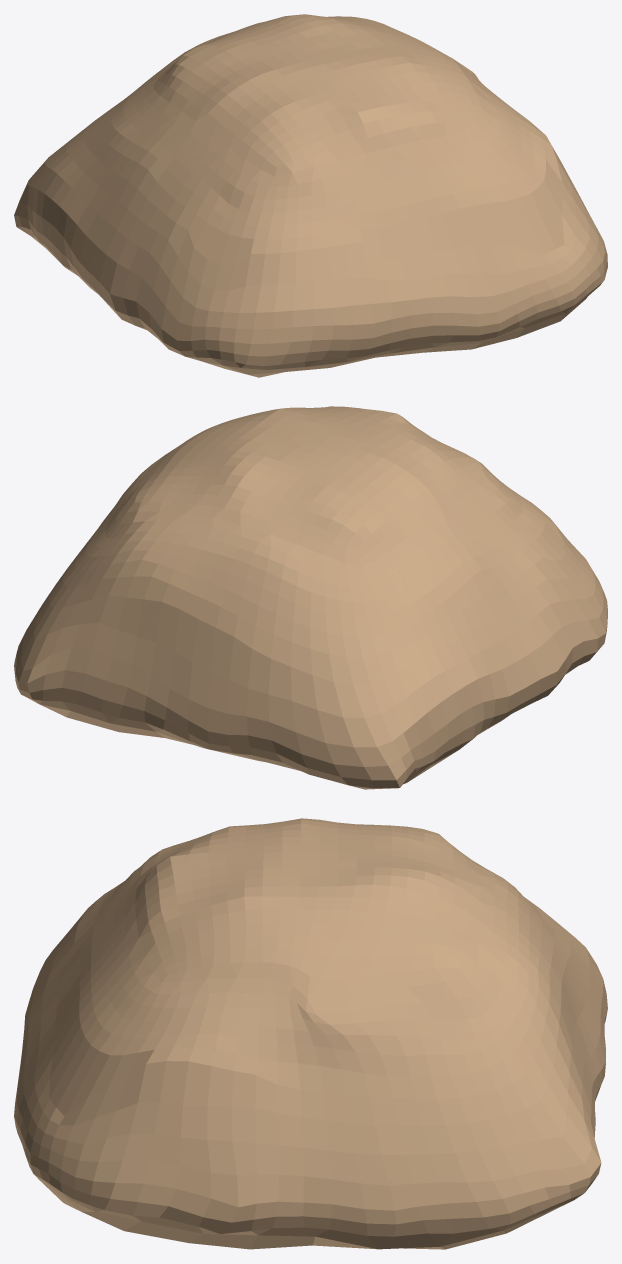
File: dirtLayer.glb
3 views of the same model, one above another, from view 1: azimuth 30°, elevation 25°; view 2: azimuth 150°, elevation 25°; view 3: azimuth 270°, elevation 25° (orthographic). The views are drawn at different scales.
Visible parts, largest first — view 1: Grid; view 2: Grid; view 3: Grid.
Boxes of the visible parts, x1,y1,x2,y2 form: Grid: (14, 14, 607, 377); Grid: (14, 406, 607, 789); Grid: (14, 818, 607, 1249).
Bounding box in the file's own units: 9.7 × 5.54 × 9.39.
1 material, 1 textured.
